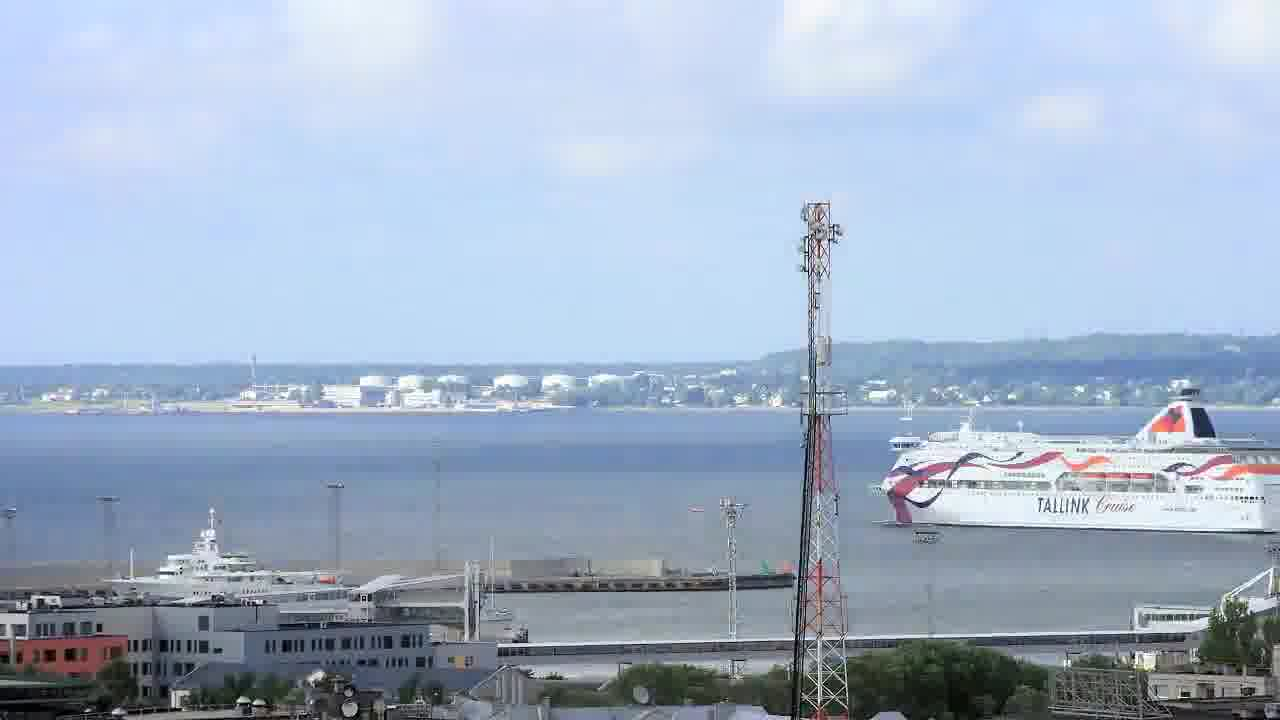type-3: (867, 408, 1279, 555), (96, 508, 381, 605)
